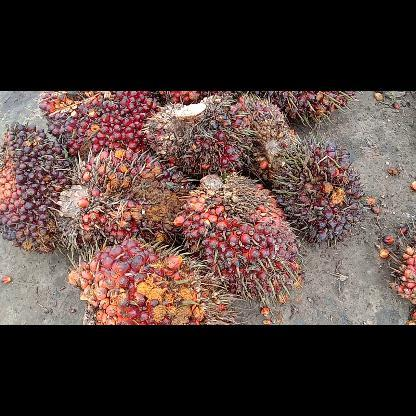TBS masak: (189, 178, 307, 309), (69, 240, 239, 324), (64, 152, 196, 244), (3, 124, 76, 252), (274, 141, 360, 238), (36, 90, 164, 152), (150, 100, 249, 178), (238, 94, 302, 182), (252, 90, 358, 124)
